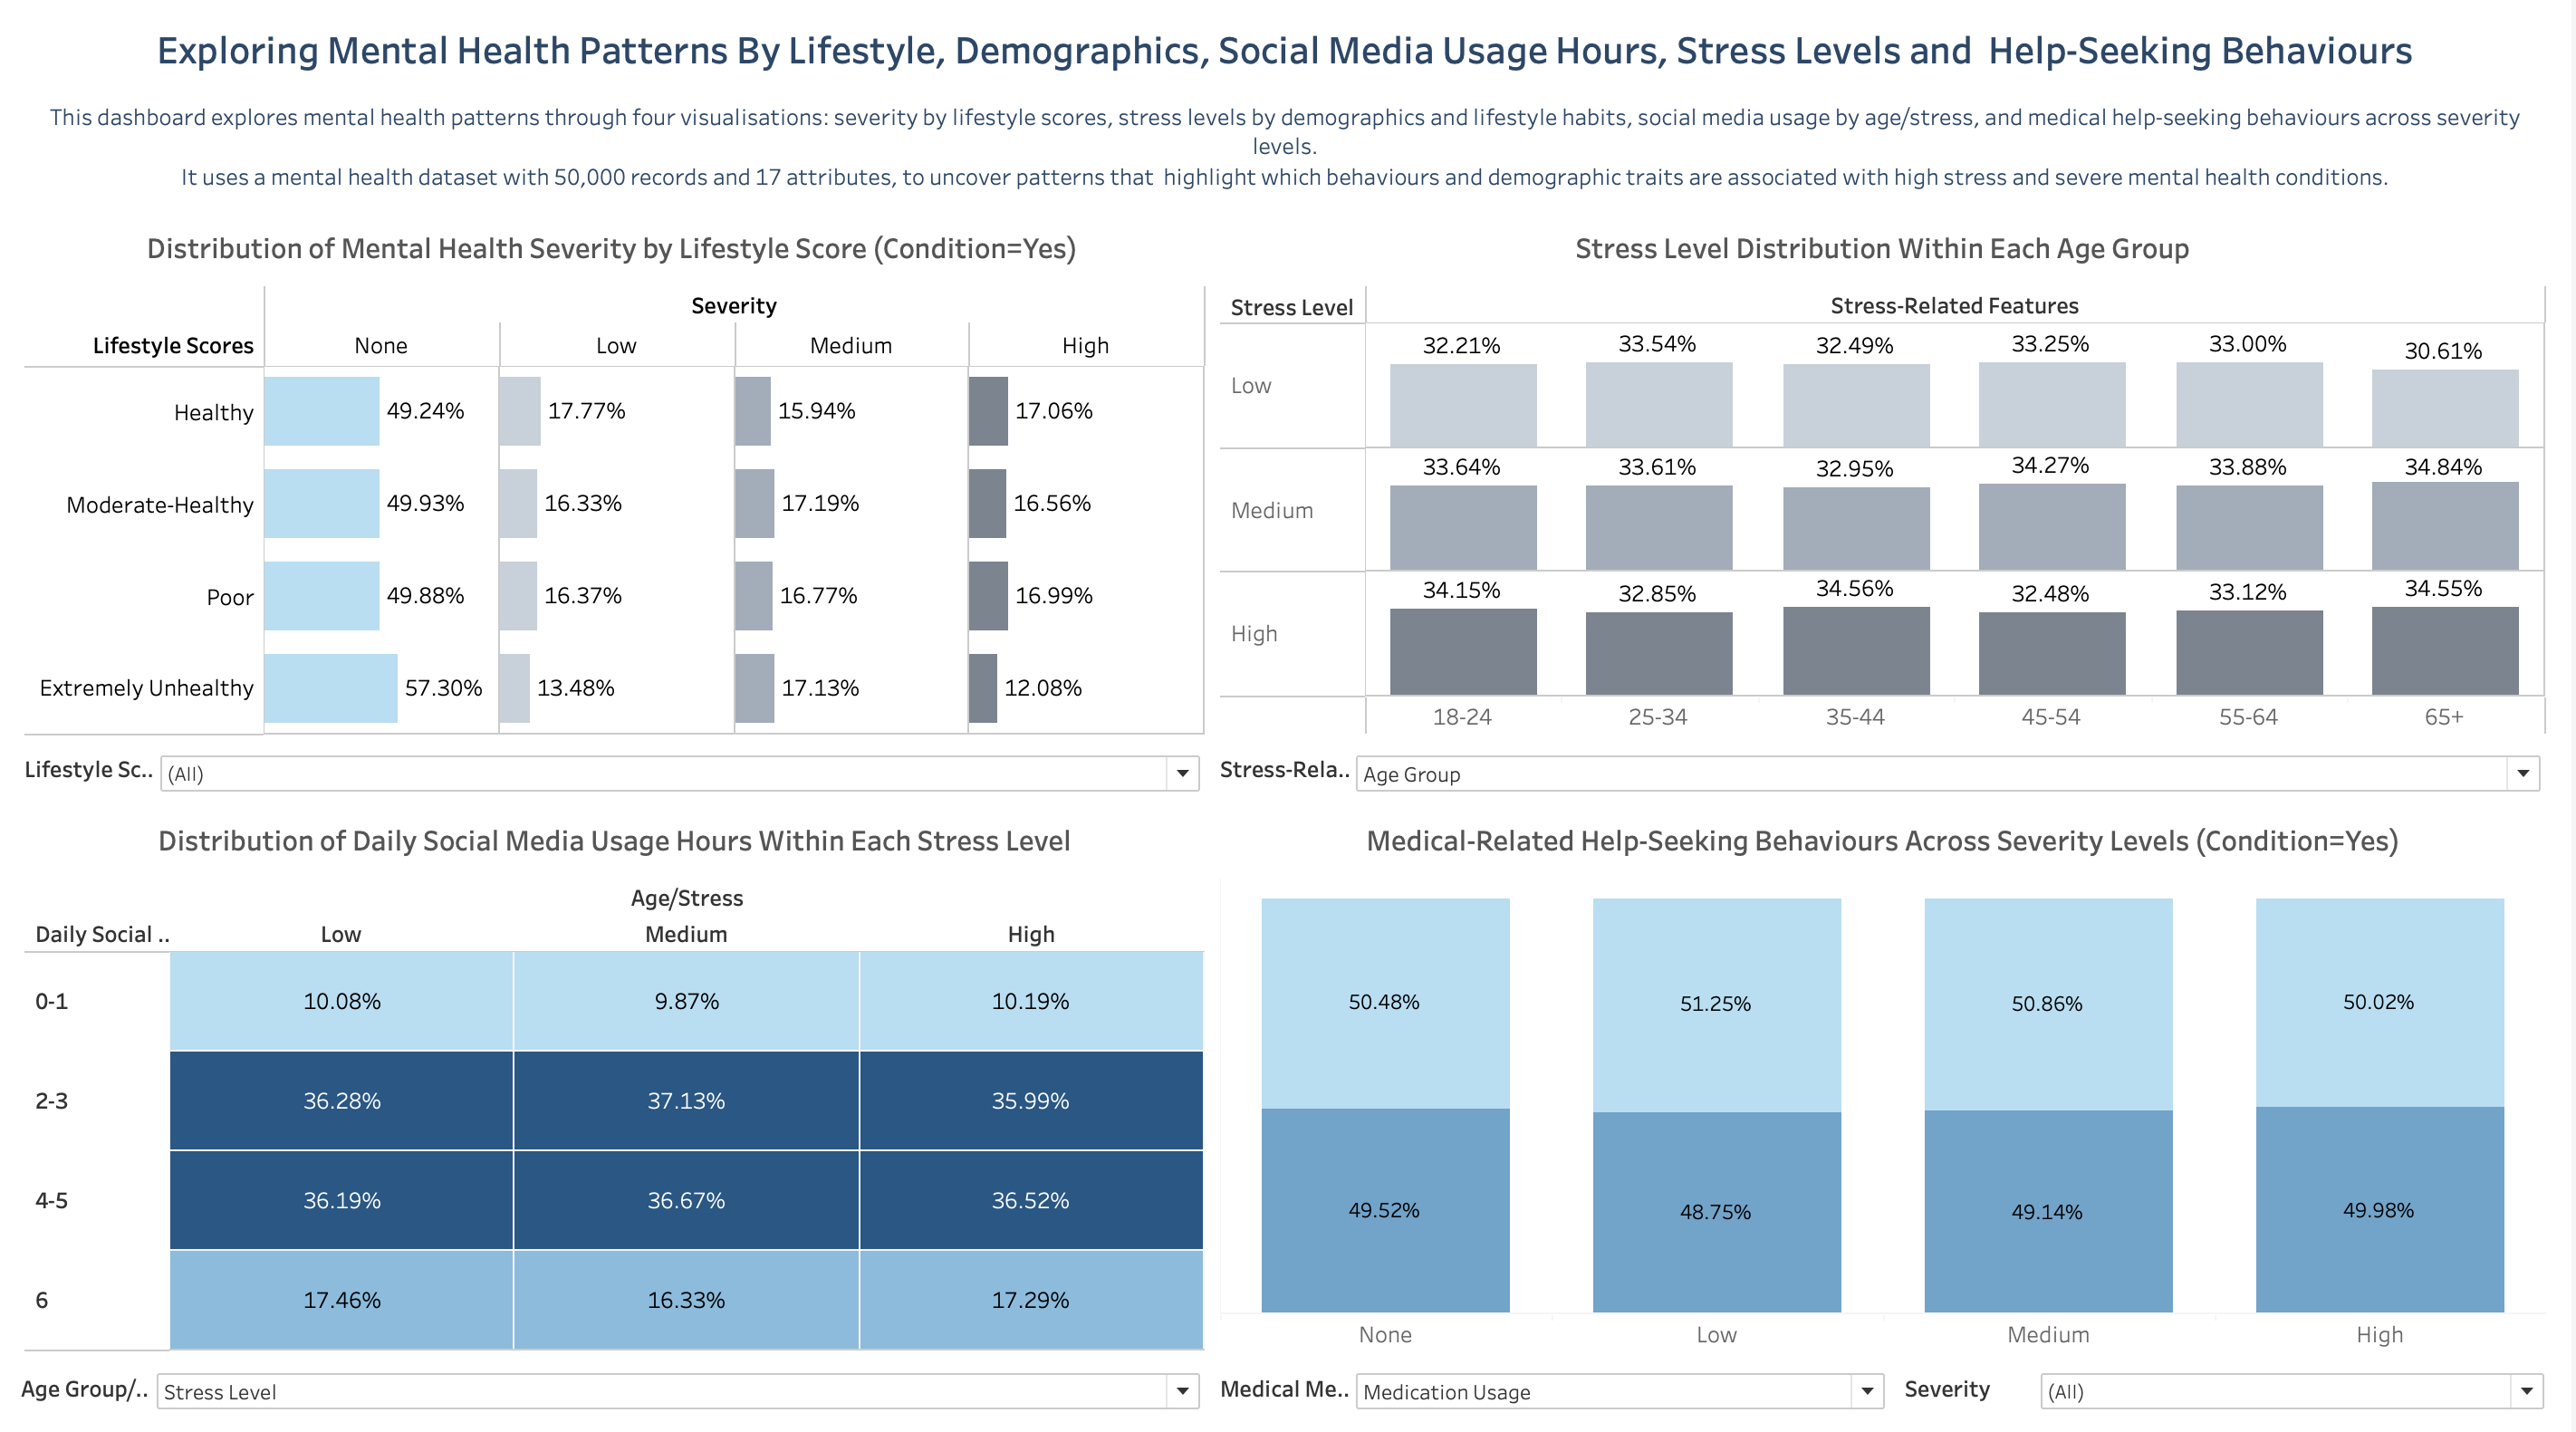

The page's visual inventory and layout, read from the dashboard file:
{"tool":"tableau","page":{"name":"Mental Health Insights Dashboard","canvas":[1000,1000],"units":"permille","ordinal":0},"visuals":[{"type":"text","box":[6.4,10.2,987.3,48.2]},{"type":"text","box":[6.4,58.3,987.3,88.8]},{"type":"worksheet","title":"Distribution of Mental Health Severity by Lifestyle Score (Condition=Yes) ","mark":"Bar","rows":["Calculation_1957588118417047553"],"cols":["Severity"],"box":[7.9,149.6,463.7,368.6]},{"type":"worksheet","title":"Stress Level Distribution Within Each Demographic or Lifestyle Metrics ","mark":"Automatic","rows":["Stress_Level","User_ID"],"cols":["Demographic features (copy)_1835287240900964355"],"box":[471.7,149.6,520.4,368.6]},{"type":"filter","title":"Distribution of Mental Health Severity by Lifestyle Score (Condition=Yes) ","param":"[federated.119qenh0xv6jeh1bhazcv1emkc5c].[none:Calculation_1957588118417047553:n","box":[7.9,518.2,463.7,43.2]},{"type":"parameter","param":"[Parameters].[Lifestyle Metrics1 (copy)_1835287240900399106]","box":[471.7,518.2,520.4,43.2]},{"type":"worksheet","title":"Distribution of Daily Social Media Usage Hours Within Each Age or Stress Level","mark":"Square","rows":["Calculation_1295770078545039361"],"cols":["Calculation_1681179690881597440"],"box":[7.9,561.5,463.7,385.1]},{"type":"worksheet","title":"Medical-Related Help-Seeking Behaviours Across Severity Levels (Condition=Yes)","mark":"Automatic","cols":["Severity"],"box":[471.7,561.5,520.4,385.1]},{"type":"parameter","param":"[Parameters].[Parameter 5]","box":[6.4,949.1,465.3,40.7]},{"type":"parameter","param":"[Parameters].[Parameter 3]","box":[471.6,949.1,266.2,40.7]},{"type":"filter","title":"Medical-Related Help-Seeking Behaviours Across Severity Levels (Condition=Yes)","param":"[federated.119qenh0xv6jeh1bhazcv1emkc5c].[none:Severity:nk]","box":[737.8,949.1,255.9,40.7]}]}

Visuals, with their boxes on the dashboard's canvas, which has no fixed pixel size, in thousandths of its width and height (x1, y1, x2, y2). These are canvas units, not pixel positions in the 2576x1432 screenshot, which may show the page scaled, cropped or inside an application window:
text: <box>6,10,994,58</box>
text: <box>6,58,994,147</box>
"Distribution of Mental Health Severity by Lifestyle Score (Condition=Yes) " worksheet (Bar marks): <box>8,150,472,518</box>
"Stress Level Distribution Within Each Demographic or Lifestyle Metrics " worksheet: <box>472,150,992,518</box>
"Distribution of Mental Health Severity by Lifestyle Score (Condition=Yes) " filter: <box>8,518,472,561</box>
parameter: <box>472,518,992,561</box>
"Distribution of Daily Social Media Usage Hours Within Each Age or Stress Level" worksheet (Square marks): <box>8,562,472,947</box>
"Medical-Related Help-Seeking Behaviours Across Severity Levels (Condition=Yes)" worksheet: <box>472,562,992,947</box>
parameter: <box>6,949,472,990</box>
parameter: <box>472,949,738,990</box>
"Medical-Related Help-Seeking Behaviours Across Severity Levels (Condition=Yes)" filter: <box>738,949,994,990</box>
